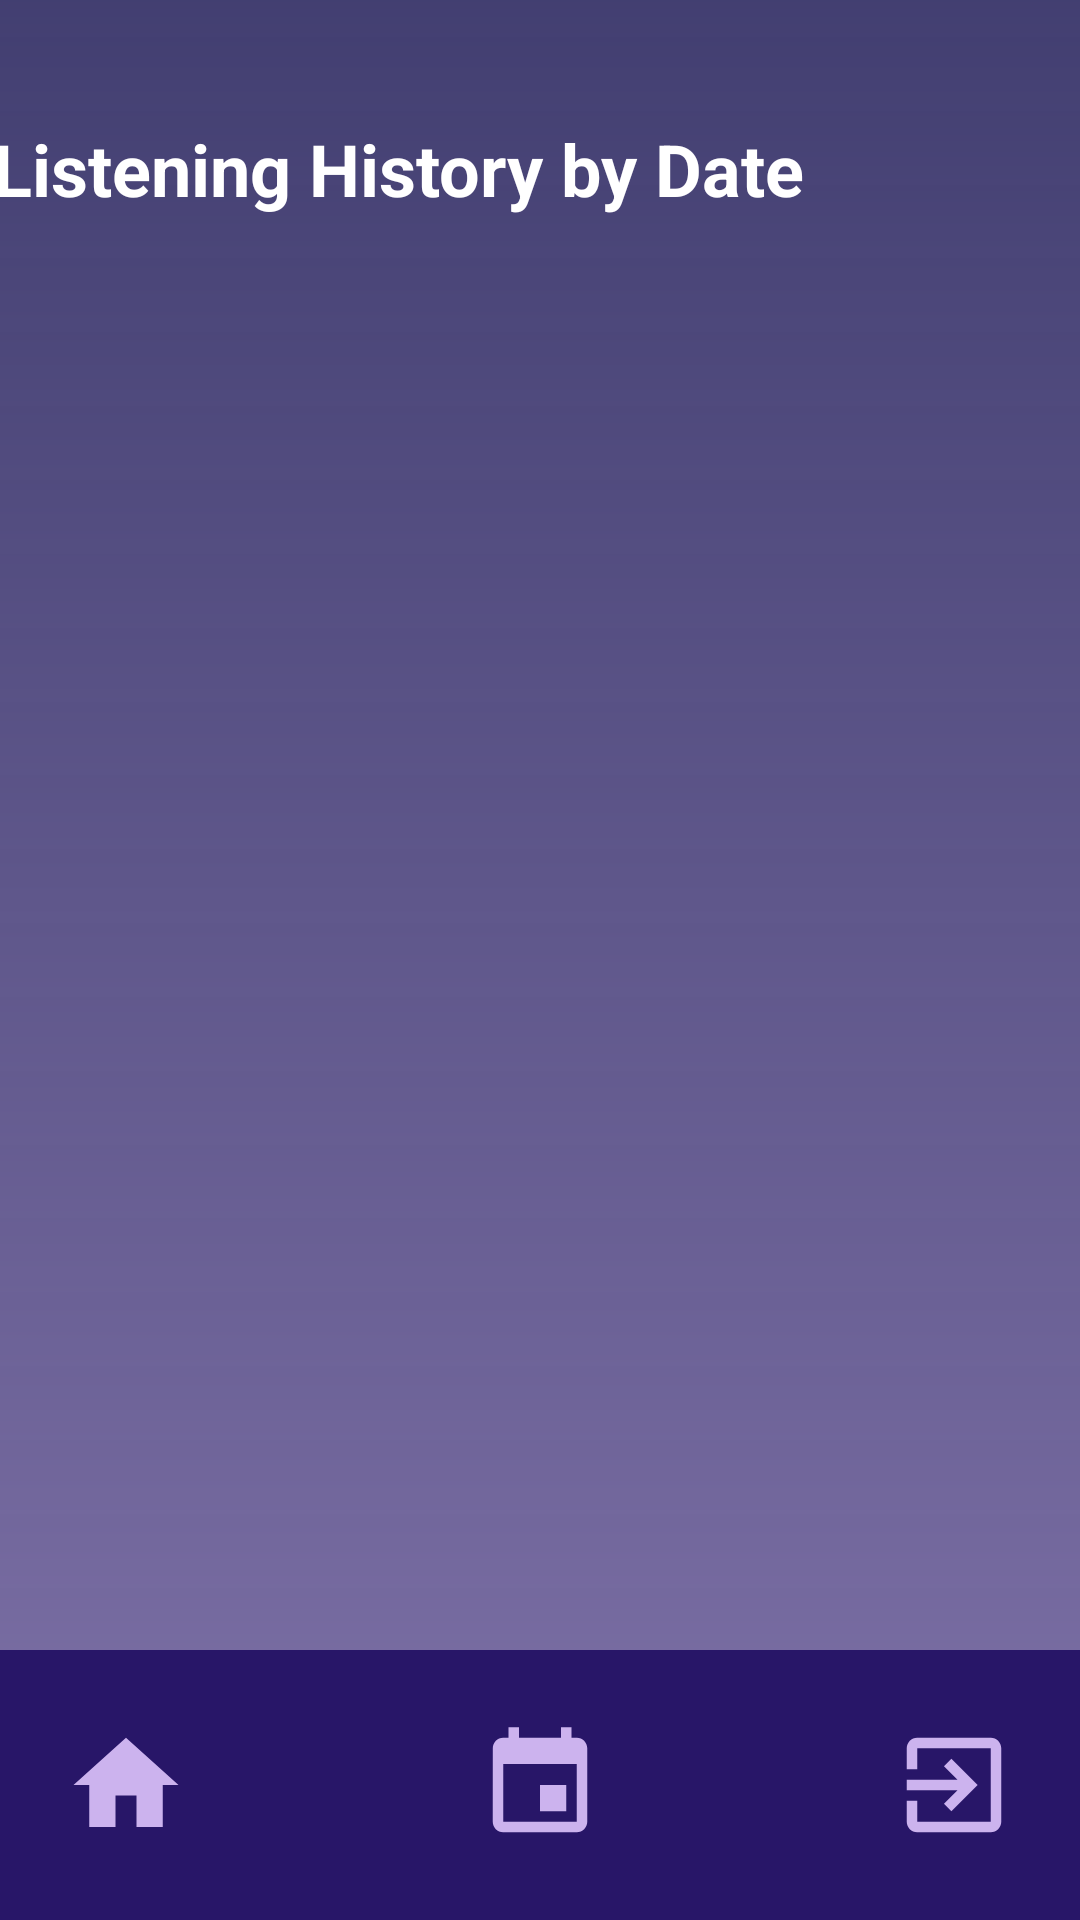

Icons on this 1080×1920 Android screen, each with the point to tap as point (x, y):
Calendar: point (540, 1780)
exit to app: point (954, 1785)
home: point (126, 1782)
